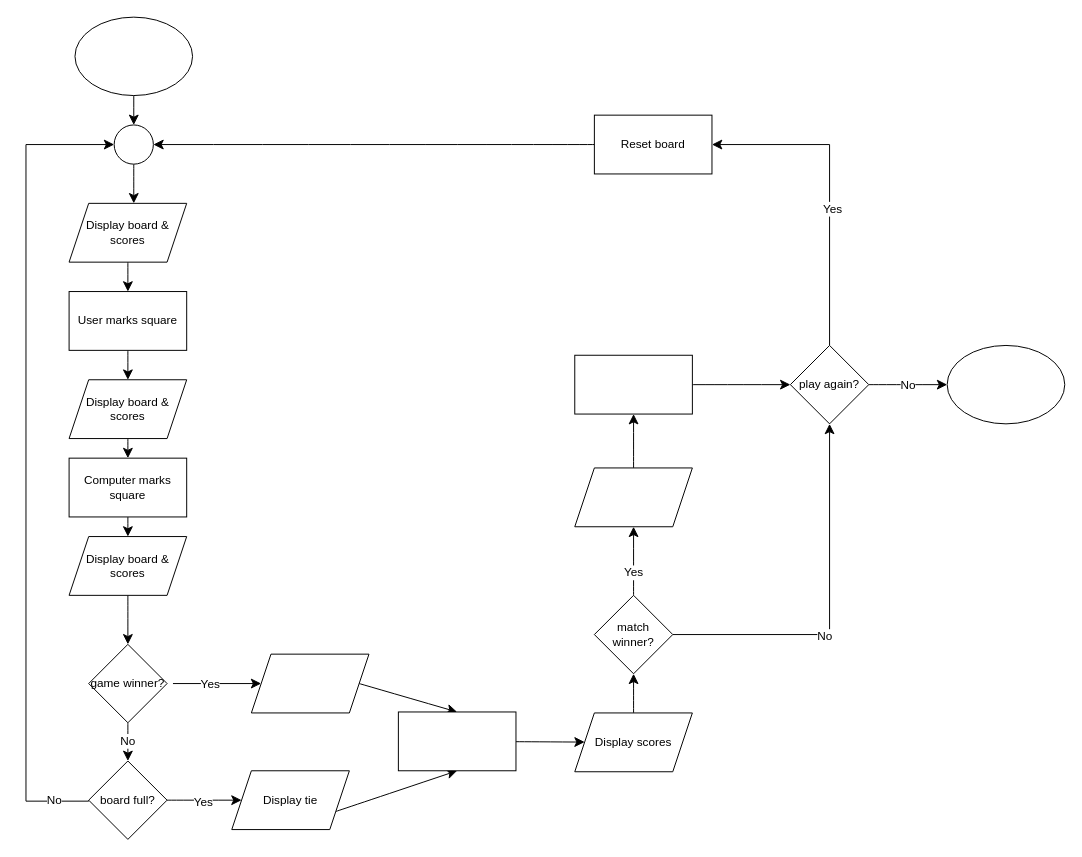
This 1082x857 diagram has some shape labels left out. Each missing label, with the centre of its shape:
"Display game winner" belongs at point 309,683.
"Display match winner" belongs at point 633,497.
"Record result" belongs at point 456,741.
"Reset scores" belongs at point 633,384.
"Start" belongs at point 133,56.
"Stop" belongs at point 1005,384.
